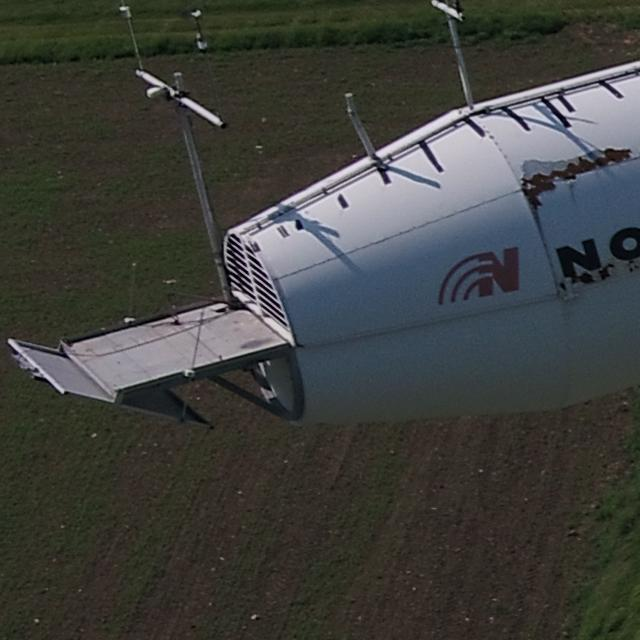damage: (514, 142, 634, 206), (520, 197, 553, 252), (596, 260, 618, 282), (575, 269, 597, 288)
